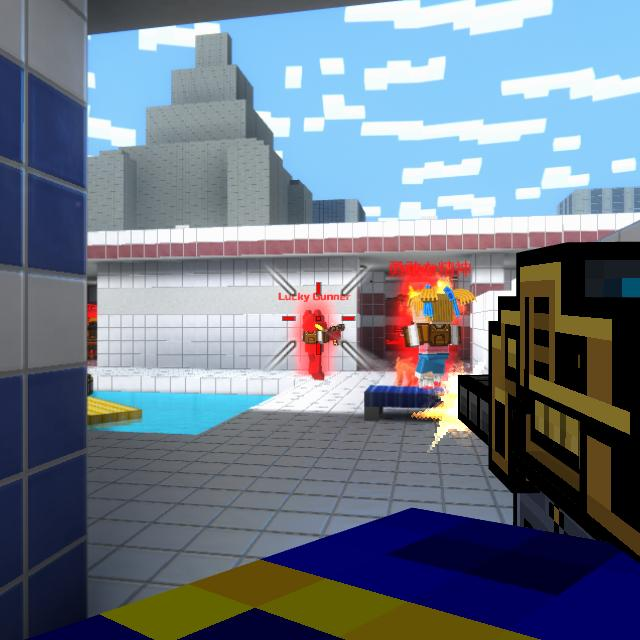Enemy: (401, 290, 461, 389), (304, 309, 343, 379), (88, 319, 98, 361)
